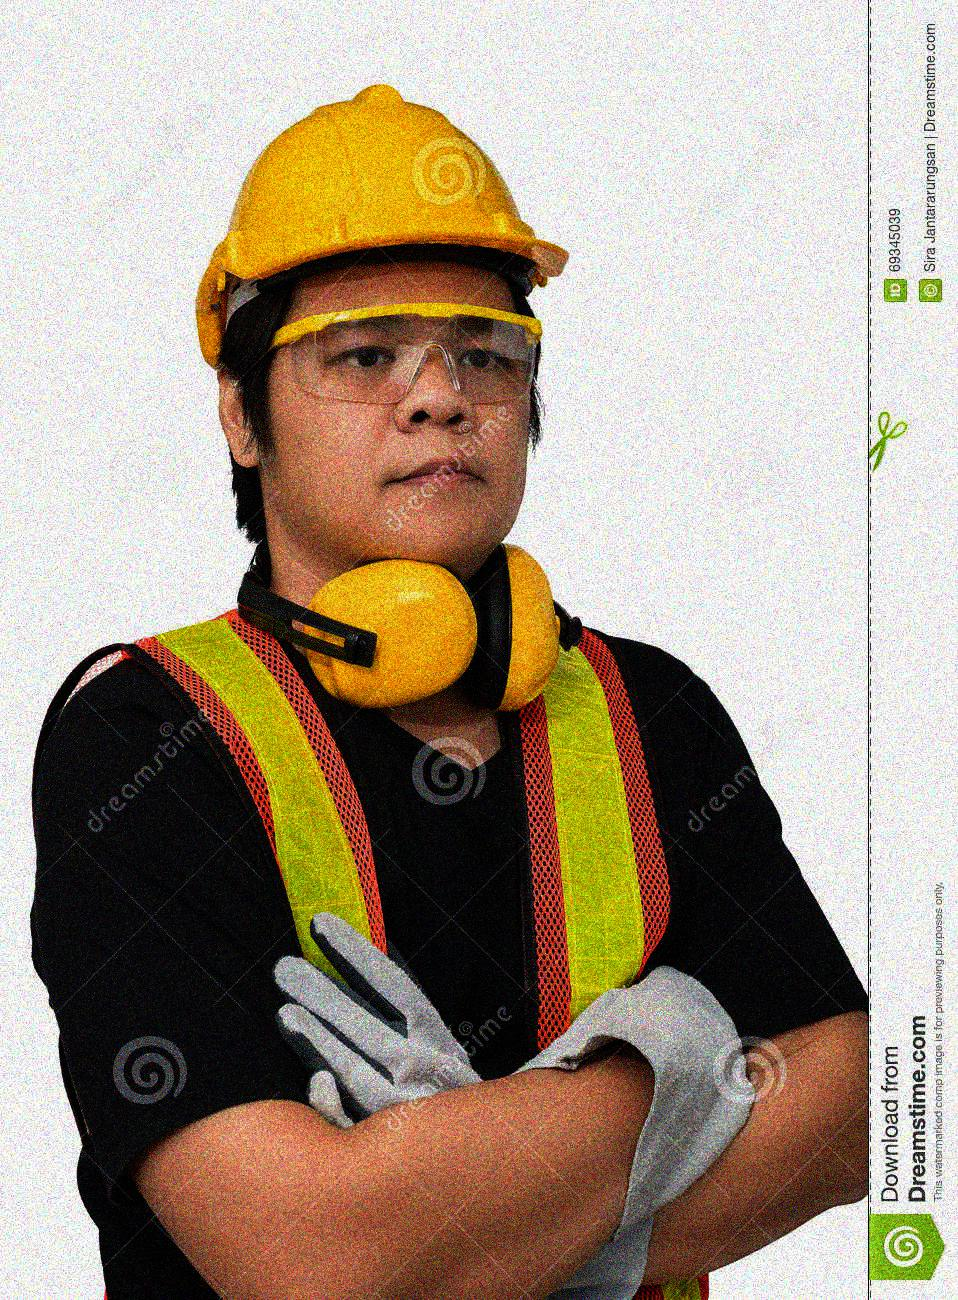helmet: (191, 81, 571, 569)
